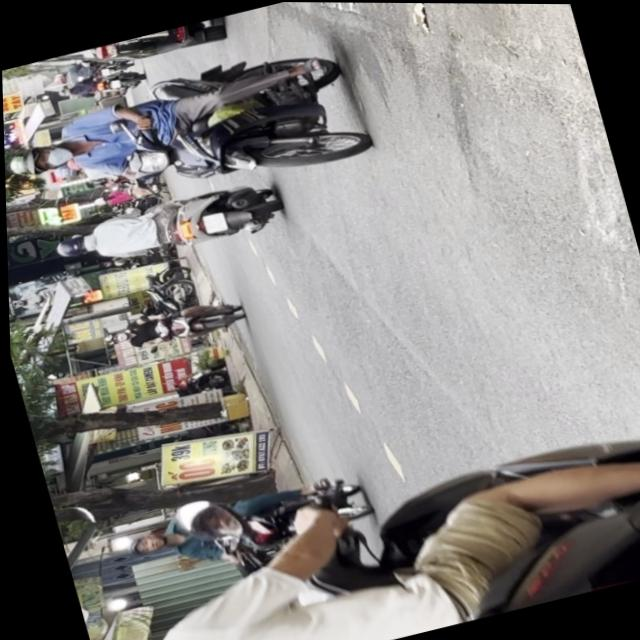helmet: (3, 138, 75, 184), (48, 231, 91, 262)
licenseplate: (1, 27, 381, 240), (44, 173, 286, 283)
nohelmet: (198, 211, 224, 235)
